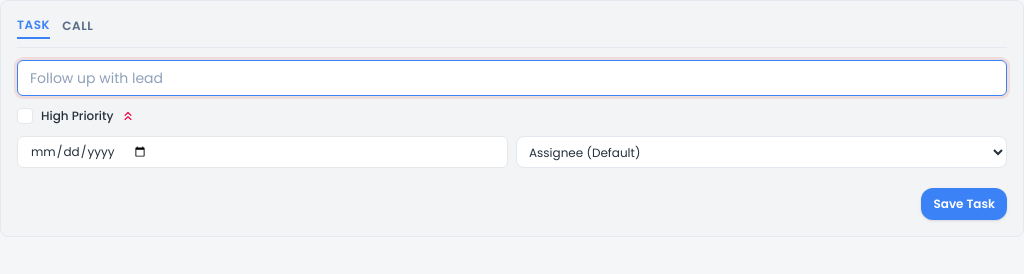
InlineTaskForm › shows title required error when submitting with empty title
Click the button "Save Task".
click(964, 204)  # box [922,188,1007,220]
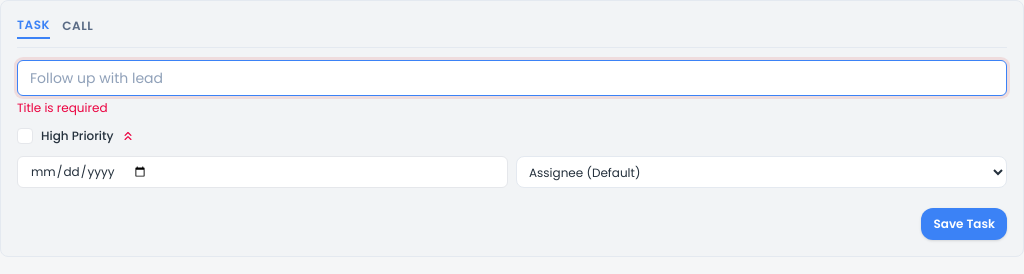
Now the text "Title is required" is shown, box [17,99,108,116]
